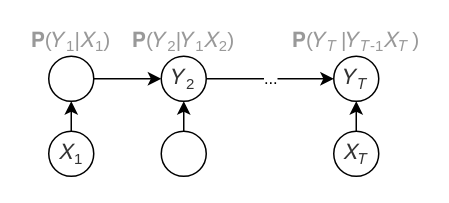
This 449x203 diagram has some shape labels left out. The box of each missing label's shape, as (x1, y1, x2, y2) in pixels:
𝑋 2: (160, 130, 206, 176)
𝑌 1: (47, 55, 94, 101)
